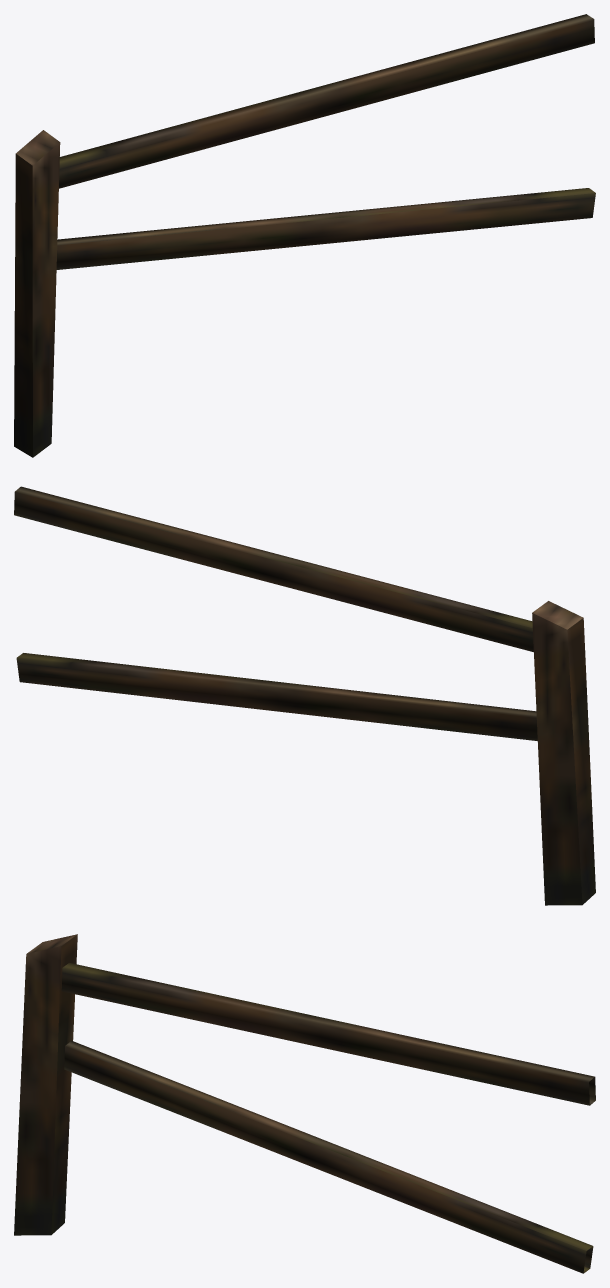
Rendered from general_obj_fence06_01.fbx.
3 views of the same model, one above another, from view 1: azimuth 30°, elevation 25°; view 2: azimuth 150°, elevation 25°; view 3: azimuth 330°, elevation 25° (orthographic). The views are drawn at different scales.
Parts seen in each view (by area): view 1: Sphere01; view 2: Sphere01; view 3: Sphere01.
Boxes of the visible parts, bbox=[...] form: Sphere01: bbox=[14, 14, 595, 457]; Sphere01: bbox=[14, 486, 595, 905]; Sphere01: bbox=[14, 934, 595, 1273].
Size of the model in its own units: 4.29 by 2.11 by 0.3533.
